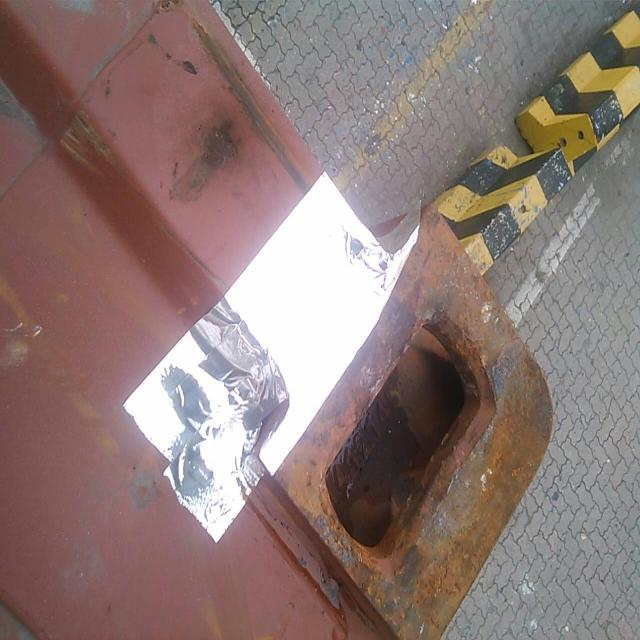rust: (265, 217, 555, 636), (160, 100, 259, 213)
